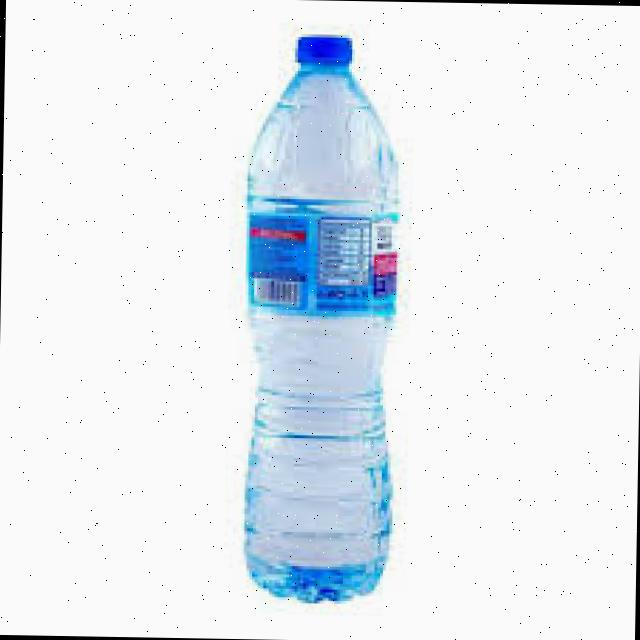bottle: (219, 21, 410, 607)
cap: (289, 28, 356, 68)
label: (230, 190, 410, 318)
